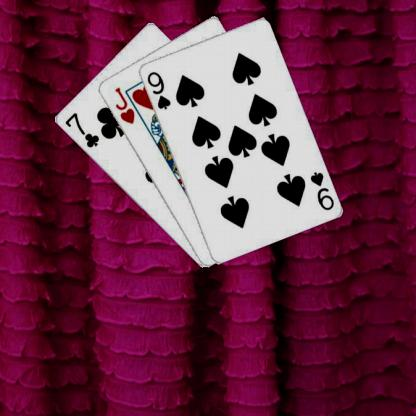7C: (62, 110, 100, 149)
9S: (307, 169, 335, 212), (144, 69, 172, 111)
JH: (112, 85, 136, 125)
